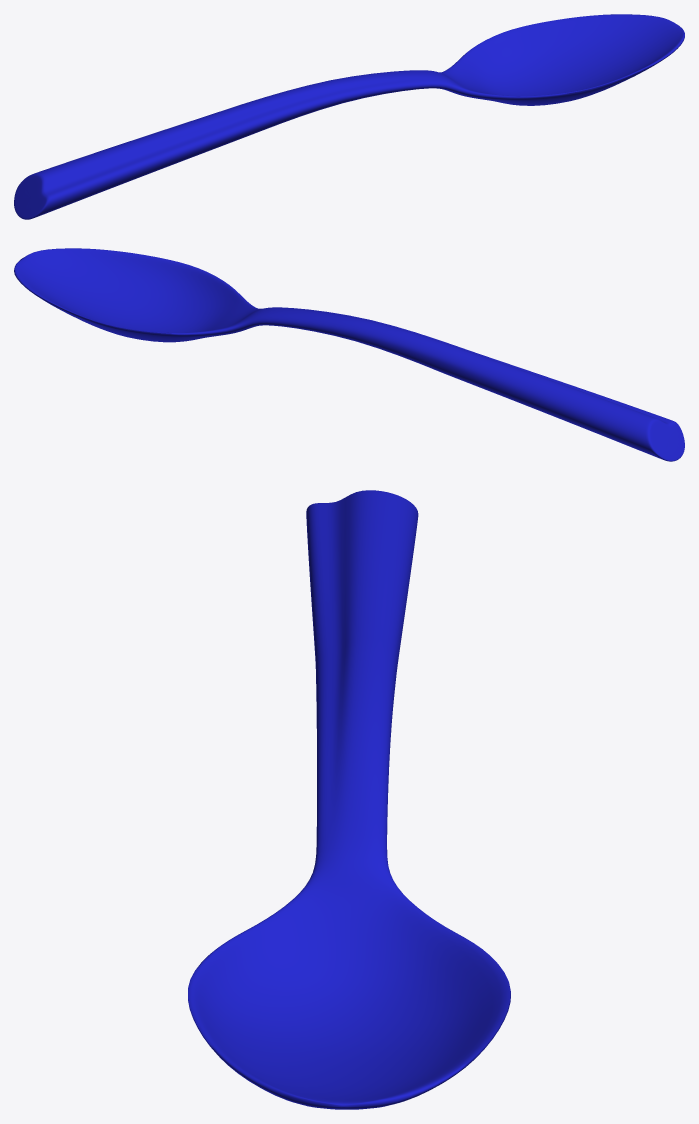
File: BluePlasticSpoon.dae
3 renders of one model, top to bottom at view 1: azimuth 30°, elevation 25°; view 2: azimuth 150°, elevation 25°; view 3: azimuth 270°, elevation 25°, orthographic. The views are drawn at different scales.
Visible parts, largest first — view 1: group_0; view 2: group_0; view 3: group_0.
Boxes of the visible parts, x1,y1,x2,y2 form: group_0: [14, 14, 684, 219]; group_0: [14, 248, 684, 461]; group_0: [188, 490, 510, 1109].
Size of the model in its own units: 0.1536 by 0.0328 by 0.0134.
